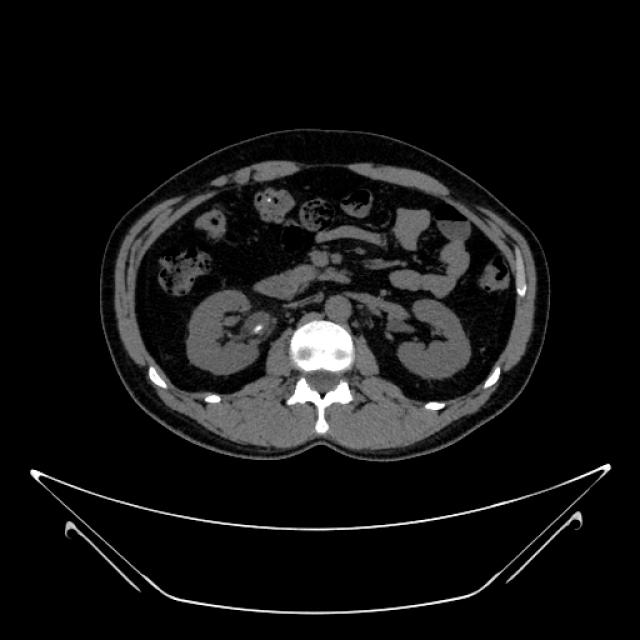kidneystone: (246, 320, 264, 336)
